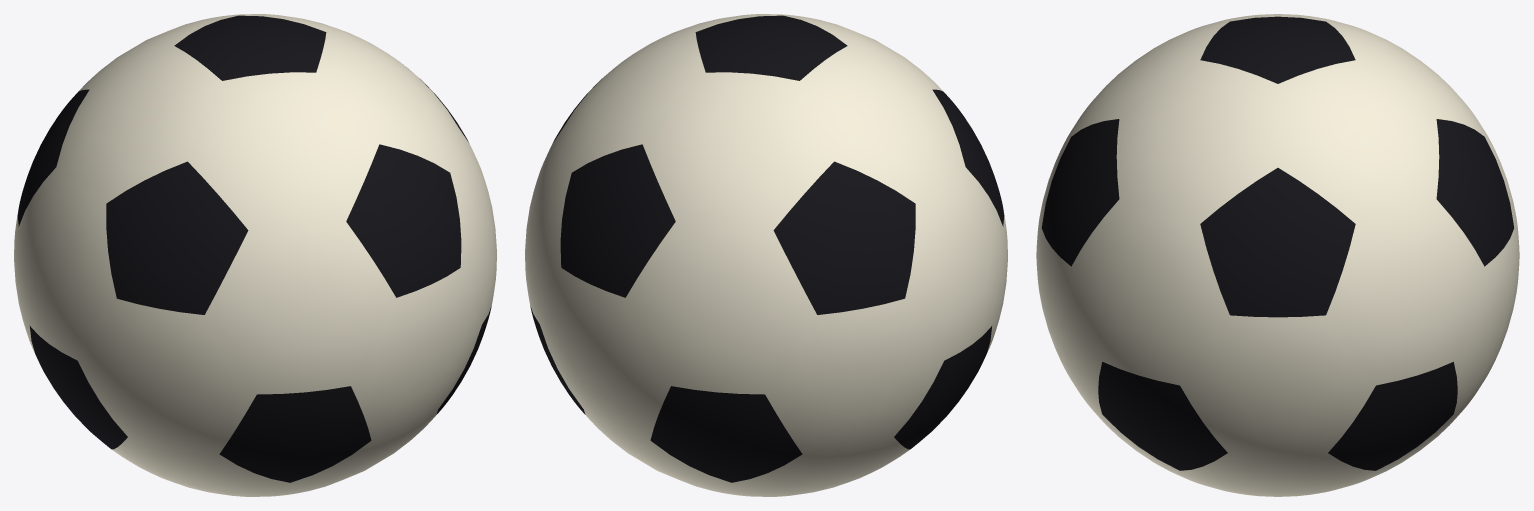
File: SoccerBall.glb
3 renders of one model, left to right at view 1: azimuth 30°, elevation 25°; view 2: azimuth 150°, elevation 25°; view 3: azimuth 270°, elevation 25°, orthographic.
Visible parts, largest first — view 1: SoccerBall; view 2: SoccerBall; view 3: SoccerBall.
Boxes of the visible parts, box(x1,y1,x2,y2) form: SoccerBall: box(14, 14, 496, 496); SoccerBall: box(525, 14, 1007, 496); SoccerBall: box(1036, 14, 1519, 496).
Size of the model in its own units: 2 by 2 by 2.
